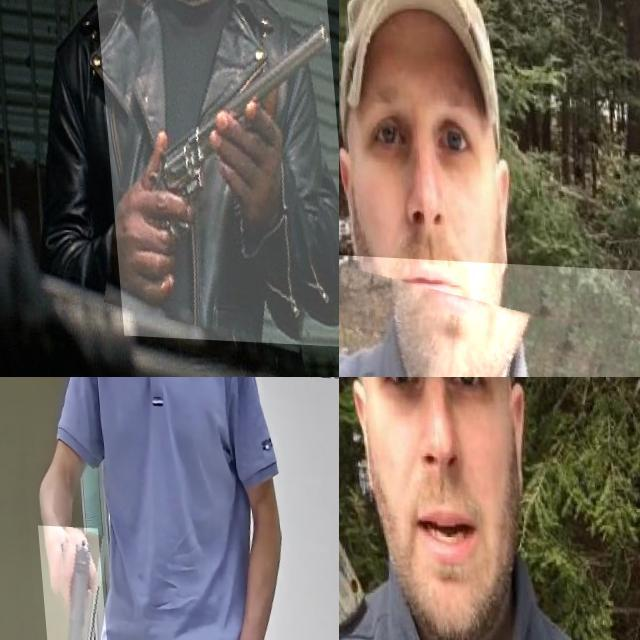-: (339, 243, 640, 377), (339, 377, 462, 553)
gun-knife-thesis - v11 Yolov5 augmented: (90, 0, 339, 342), (34, 523, 106, 640)
